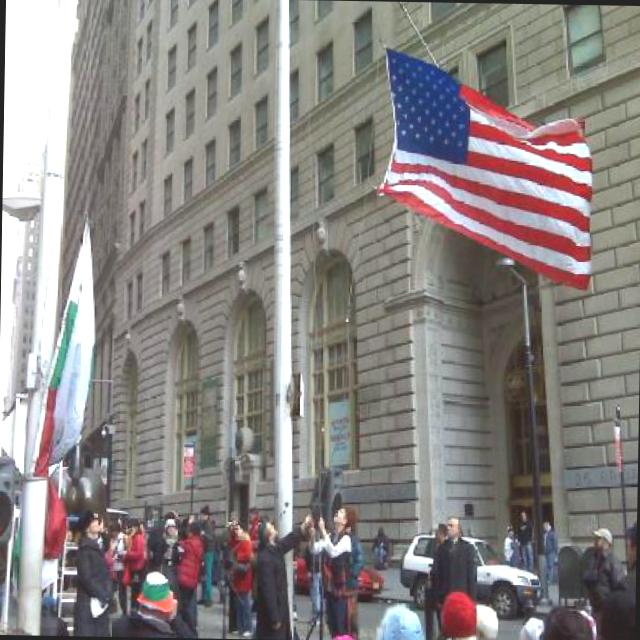Person: (0, 495, 634, 640)
